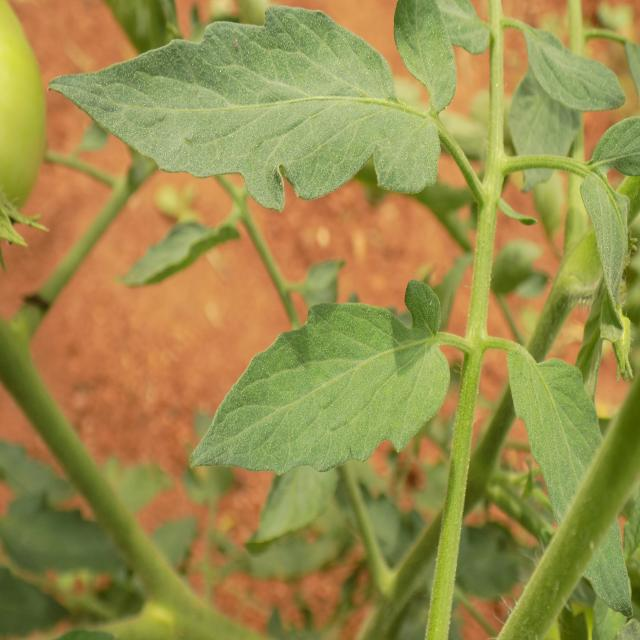tomato_healthy: (42, 2, 452, 214), (180, 278, 456, 488), (508, 335, 634, 620)
